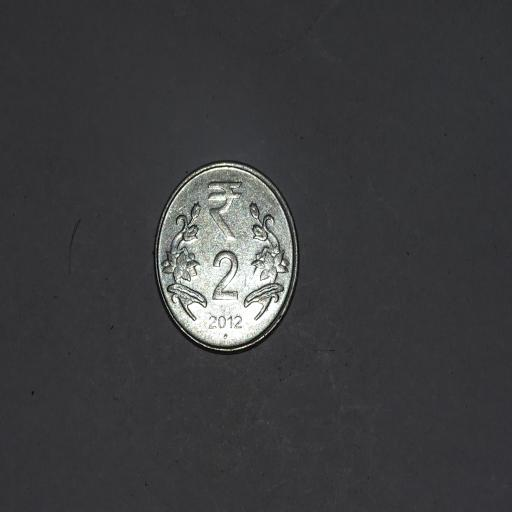rupee2: (149, 159, 302, 358)
